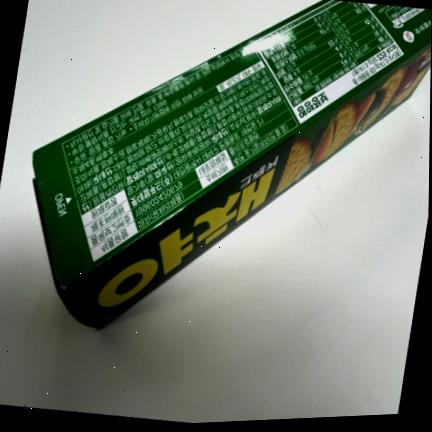cracker_vege: (33, 0, 432, 329)
